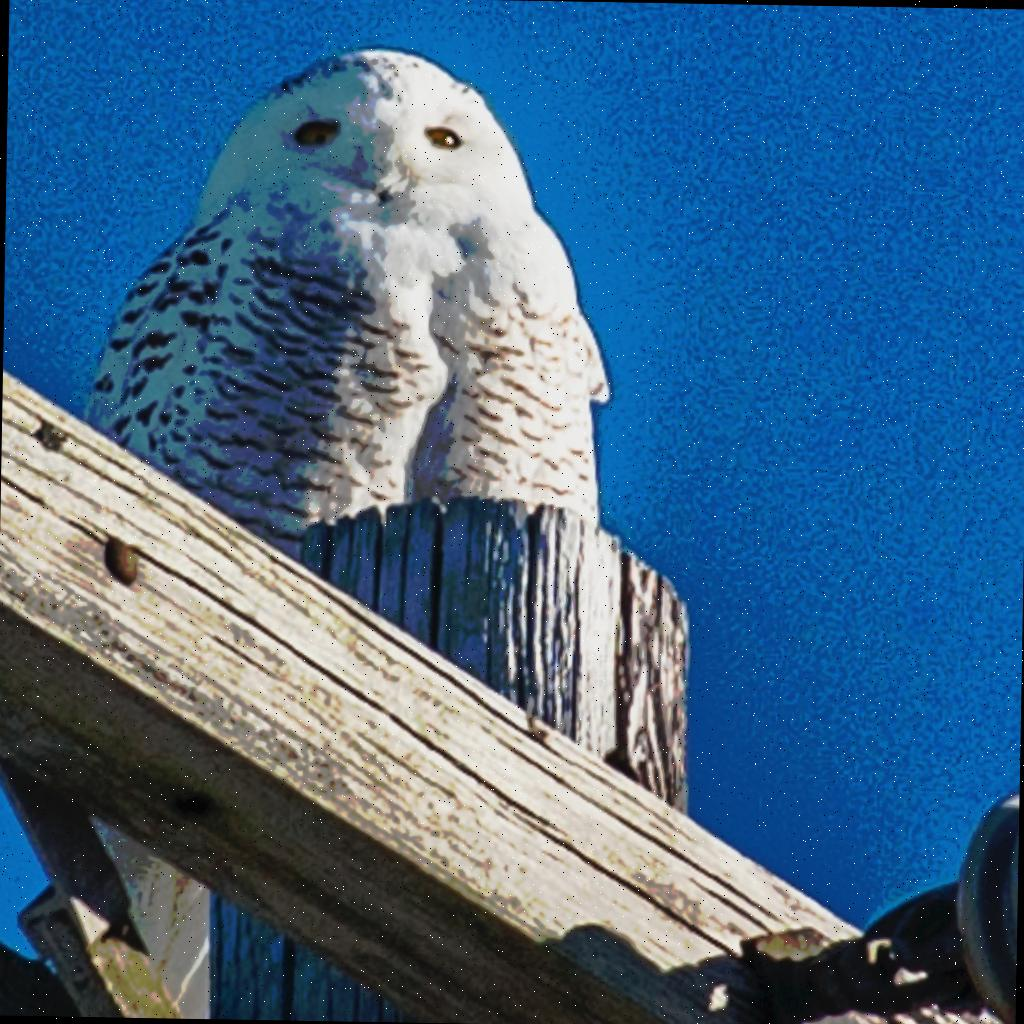Owl: (76, 35, 616, 1024)
